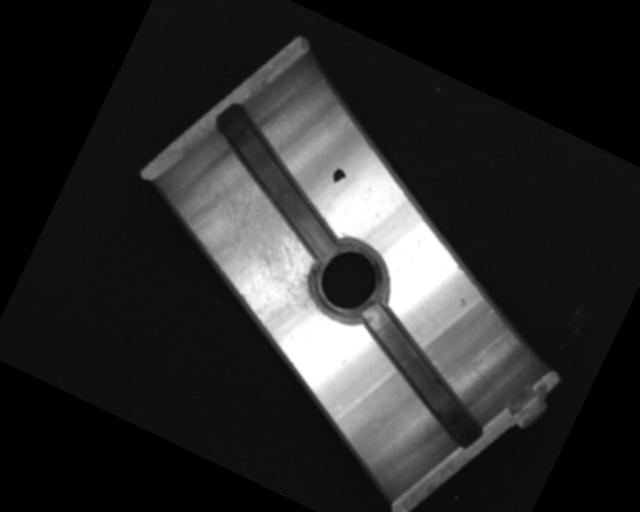blot: (328, 165, 350, 188)
bruise: (454, 296, 468, 310)
gap: (183, 101, 370, 263), (330, 303, 508, 451)
hole: (299, 232, 397, 332)
scratch: (158, 160, 366, 353)
